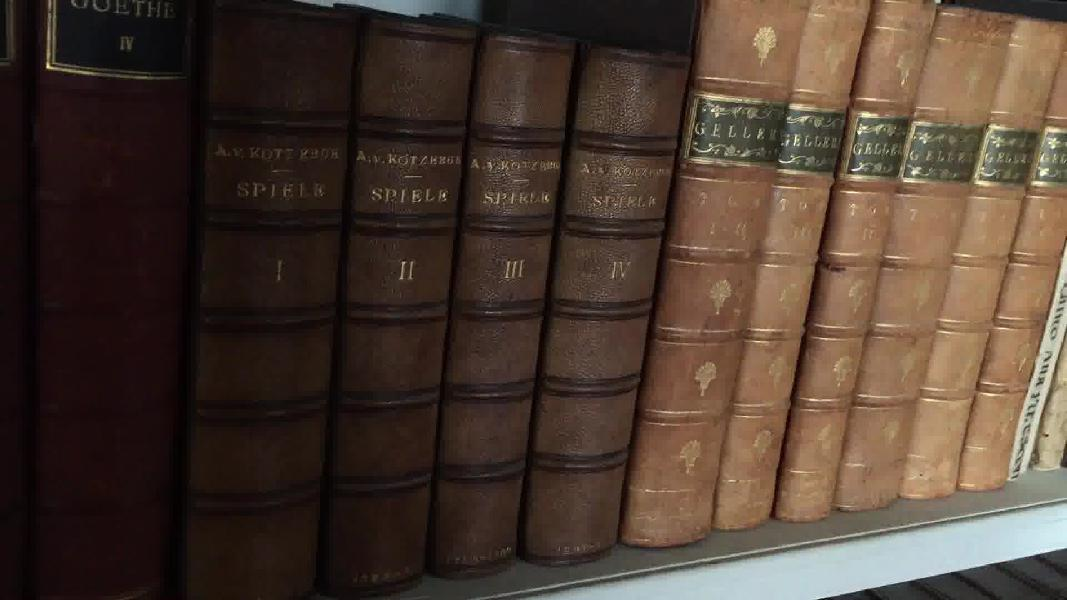Aa6-14_17: (181, 5, 689, 600)
Aa6-18_23: (624, 7, 1067, 552)
